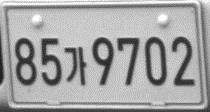0: (144, 36, 168, 86)
2: (171, 35, 195, 86)
5: (40, 37, 62, 87)
7: (116, 37, 140, 86)
8: (13, 36, 36, 85)
9: (91, 36, 114, 85)
가: (63, 46, 88, 85)
